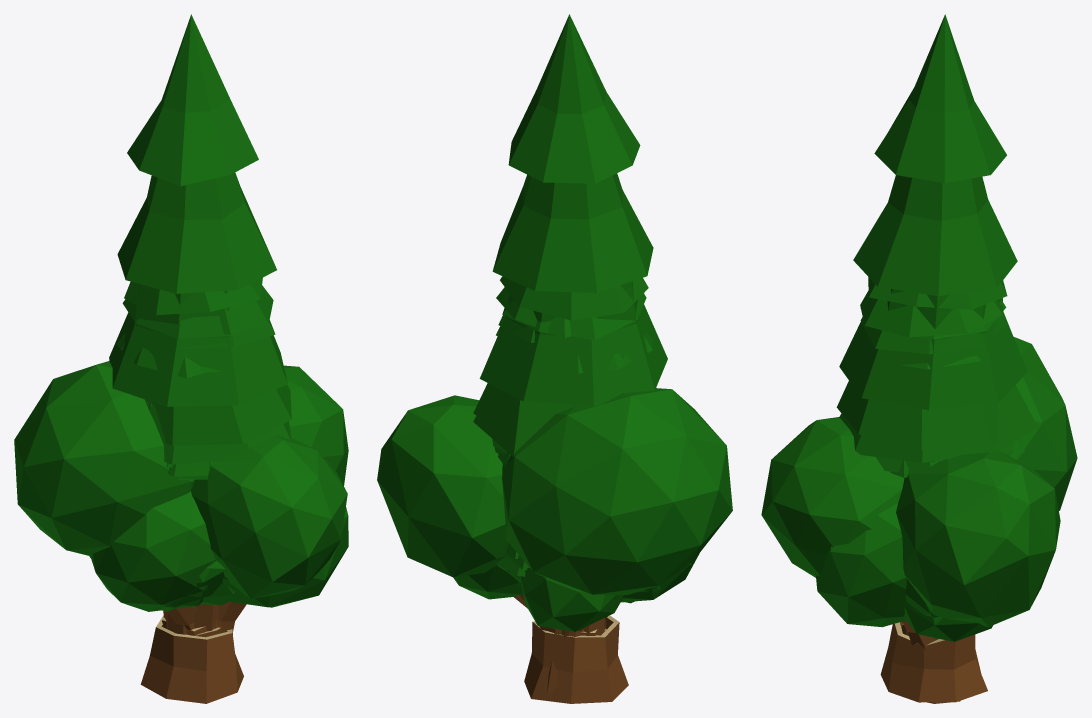
File: Trees.fbx
The picture shows the model from 3 angles, left to right: view 1: azimuth 30°, elevation 25°; view 2: azimuth 150°, elevation 25°; view 3: azimuth 270°, elevation 25°; orthographic projection.
Parts seen in each view (by area): view 1: Small Tree-07, Tall Tree-05, Small Tree-05, Tall Tree-03, Stump-02, Tall Tree-01, Tall Tree-08, Small Tree-06, Tall Tree-06, Tall Tree-02, Small Tree-08, Tall Tree-04; view 2: Small Tree-07, Tall Tree-05, Stump-02, Tall Tree-08, Tall Tree-03, Small Tree-06, Small Tree-05, Tall Tree-01, Tall Tree-07, Tall Tree-06; view 3: Small Tree-07, Tall Tree-05, Tall Tree-03, Small Tree-06, Tall Tree-08, Stump-02, Tall Tree-06, Small Tree-05, Tall Tree-04.
Part boxes in pixels (x1=…): Small Tree-07: x1=14, y1=361, x2=348, y2=598; Tall Tree-05: x1=109, y1=14, x2=287, y2=406; Small Tree-05: x1=90, y1=491, x2=216, y2=629; Tall Tree-03: x1=124, y1=277, x2=291, y2=628; Stump-02: x1=140, y1=615, x2=243, y2=703; Tall Tree-01: x1=122, y1=299, x2=239, y2=464; Tall Tree-08: x1=194, y1=285, x2=291, y2=631; Small Tree-06: x1=89, y1=507, x2=348, y2=632; Tall Tree-06: x1=163, y1=320, x2=275, y2=634; Tall Tree-02: x1=116, y1=333, x2=212, y2=479; Small Tree-08: x1=160, y1=556, x2=224, y2=611; Tall Tree-04: x1=167, y1=366, x2=237, y2=476; Small Tree-07: x1=377, y1=388, x2=732, y2=637; Tall Tree-05: x1=479, y1=14, x2=667, y2=406; Stump-02: x1=524, y1=615, x2=628, y2=703; Tall Tree-08: x1=473, y1=287, x2=575, y2=567; Tall Tree-03: x1=473, y1=276, x2=648, y2=558; Small Tree-06: x1=520, y1=567, x2=624, y2=631; Small Tree-05: x1=453, y1=553, x2=699, y2=620; Tall Tree-01: x1=502, y1=293, x2=646, y2=339; Tall Tree-07: x1=496, y1=353, x2=631, y2=695; Tall Tree-06: x1=494, y1=315, x2=606, y2=635; Small Tree-07: x1=761, y1=337, x2=1077, y2=626; Tall Tree-05: x1=839, y1=14, x2=1027, y2=703; Tall Tree-03: x1=836, y1=277, x2=1007, y2=640; Small Tree-06: x1=816, y1=503, x2=935, y2=650; Tall Tree-08: x1=839, y1=290, x2=1037, y2=462; Stump-02: x1=880, y1=622, x2=987, y2=702; Tall Tree-06: x1=860, y1=315, x2=1013, y2=455; Small Tree-05: x1=904, y1=602, x2=992, y2=641; Tall Tree-04: x1=853, y1=340, x2=1013, y2=473.
Bounding box in the file's own units: 176 × 347 × 147.
